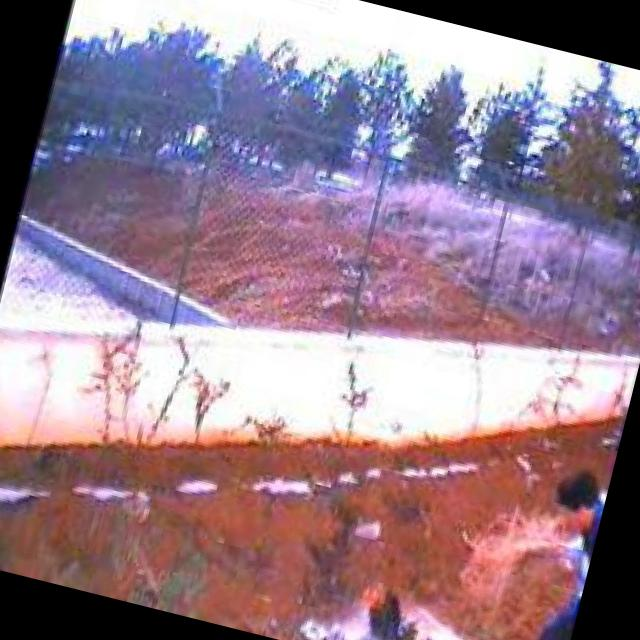Fire: (349, 575, 413, 640)
